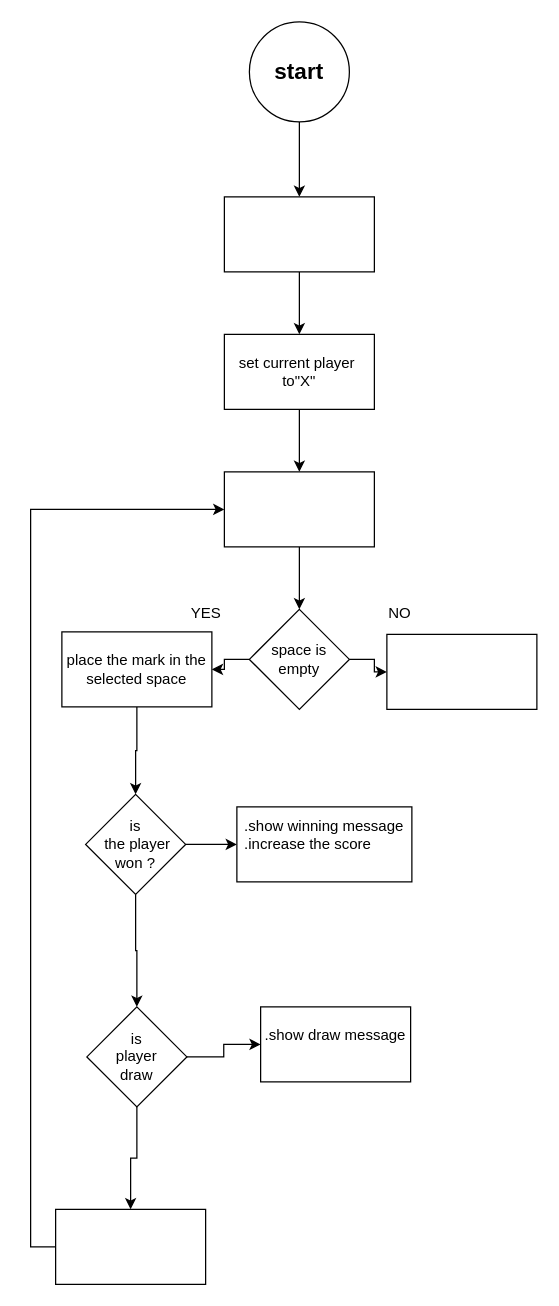
Some shapes in this 559 by 1306 pixel diagram are drawn without their labels. Here are the shapes that lost their labels. From the top down, the centre of each, then its label:
At point (298, 234): "initialize game board".
At point (298, 509): "select a space in the board".
At point (461, 671): "do nothing".
At point (130, 1246): "switch the current player".
